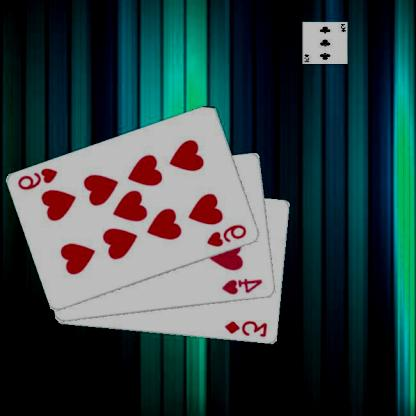3D: (224, 318, 271, 339)
4H: (221, 276, 266, 296)
9H: (206, 222, 250, 248), (18, 165, 62, 191)
